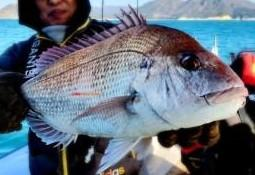fish: (21, 6, 247, 172)
